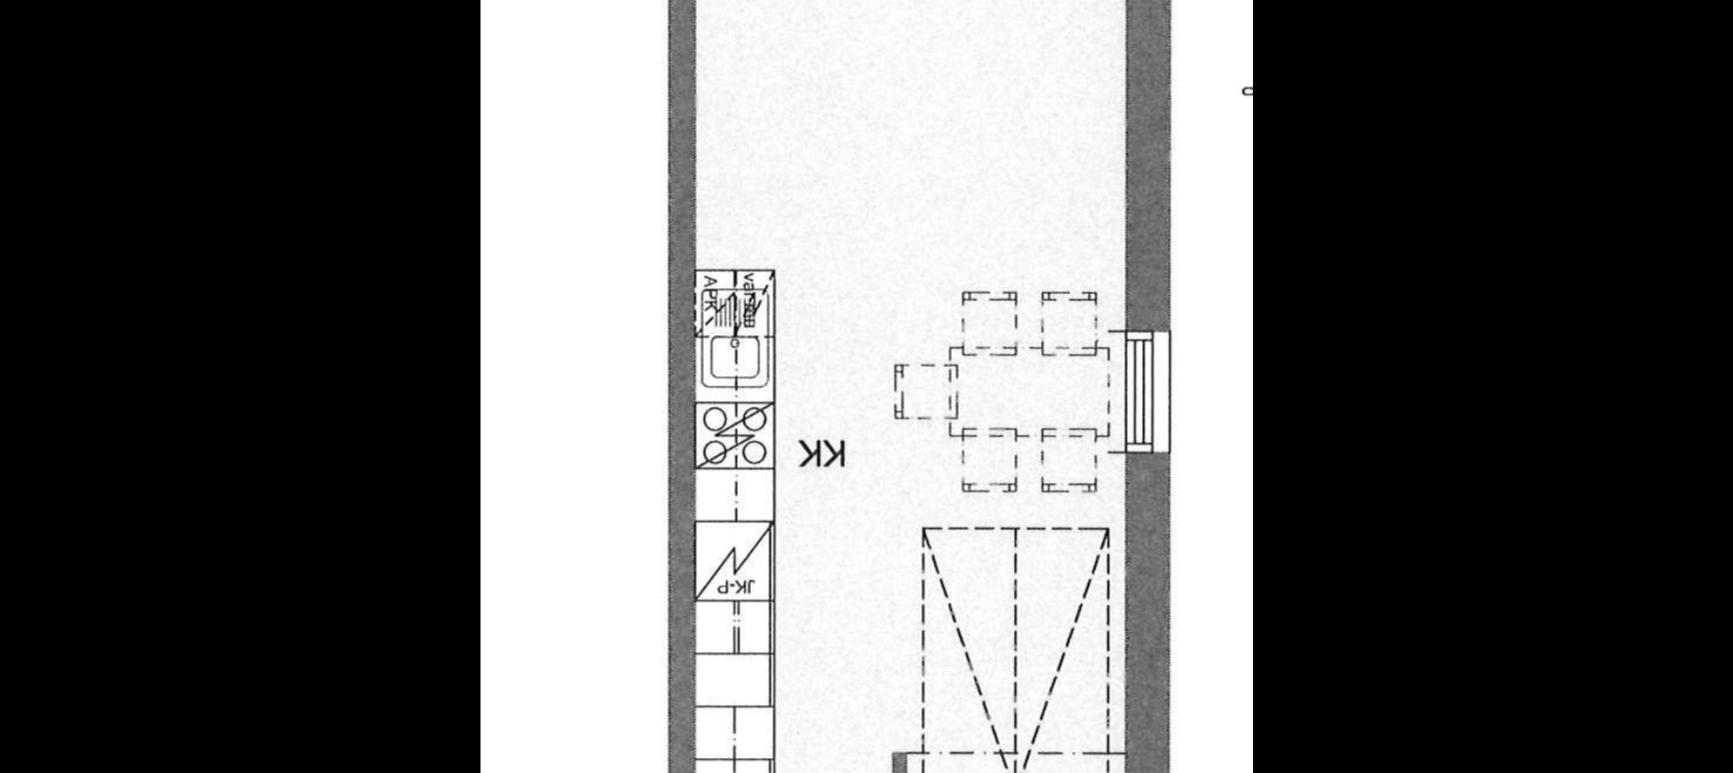window: (1114, 321, 1178, 463)
